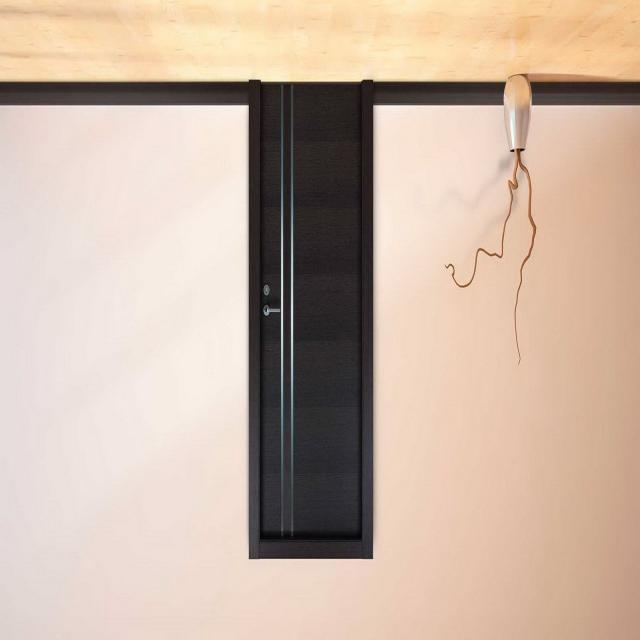close: (252, 80, 372, 556)
